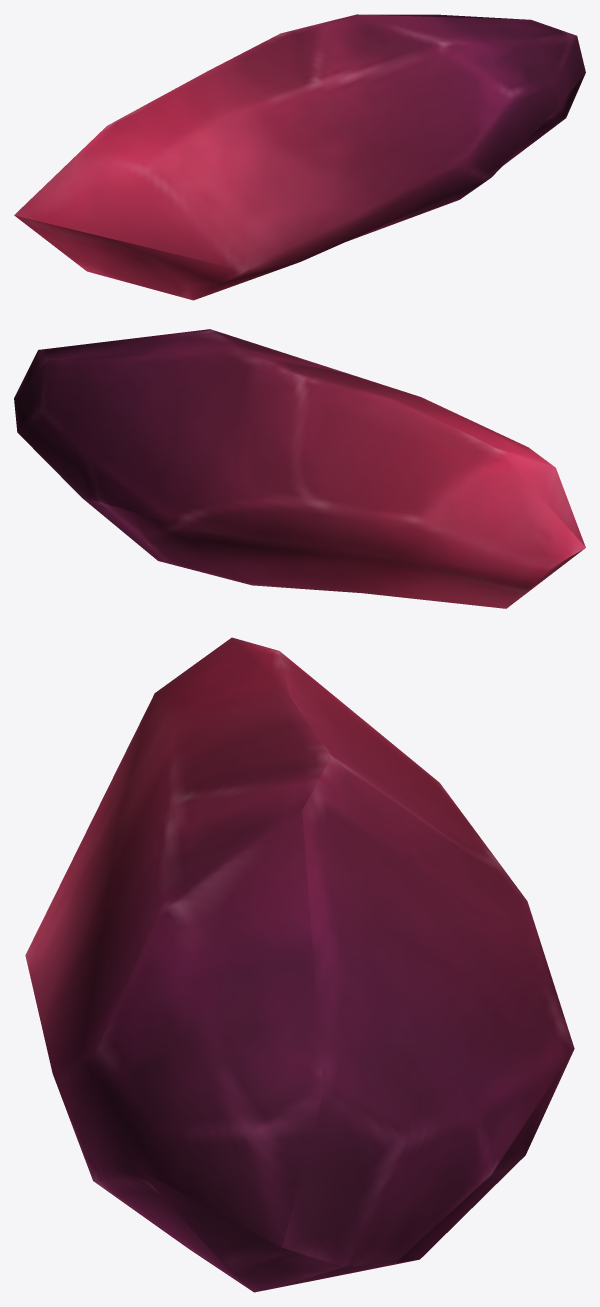
Rendered from 13_ING_gem_red.glb.
3 views of the same model, one above another, from view 1: azimuth 30°, elevation 25°; view 2: azimuth 150°, elevation 25°; view 3: azimuth 270°, elevation 25° (orthographic). The views are drawn at different scales.
Visible parts, largest first — view 1: 13_ING_gem_red; view 2: 13_ING_gem_red; view 3: 13_ING_gem_red.
Boxes of the visible parts, box(x1,y1,x2,y2) form: 13_ING_gem_red: box(14, 14, 585, 300); 13_ING_gem_red: box(14, 329, 585, 608); 13_ING_gem_red: box(25, 637, 574, 1292).
Bounding box in the file's own units: 0.1645 × 0.0589 × 0.0688.
Materials: 1 (1 with a texture image).
